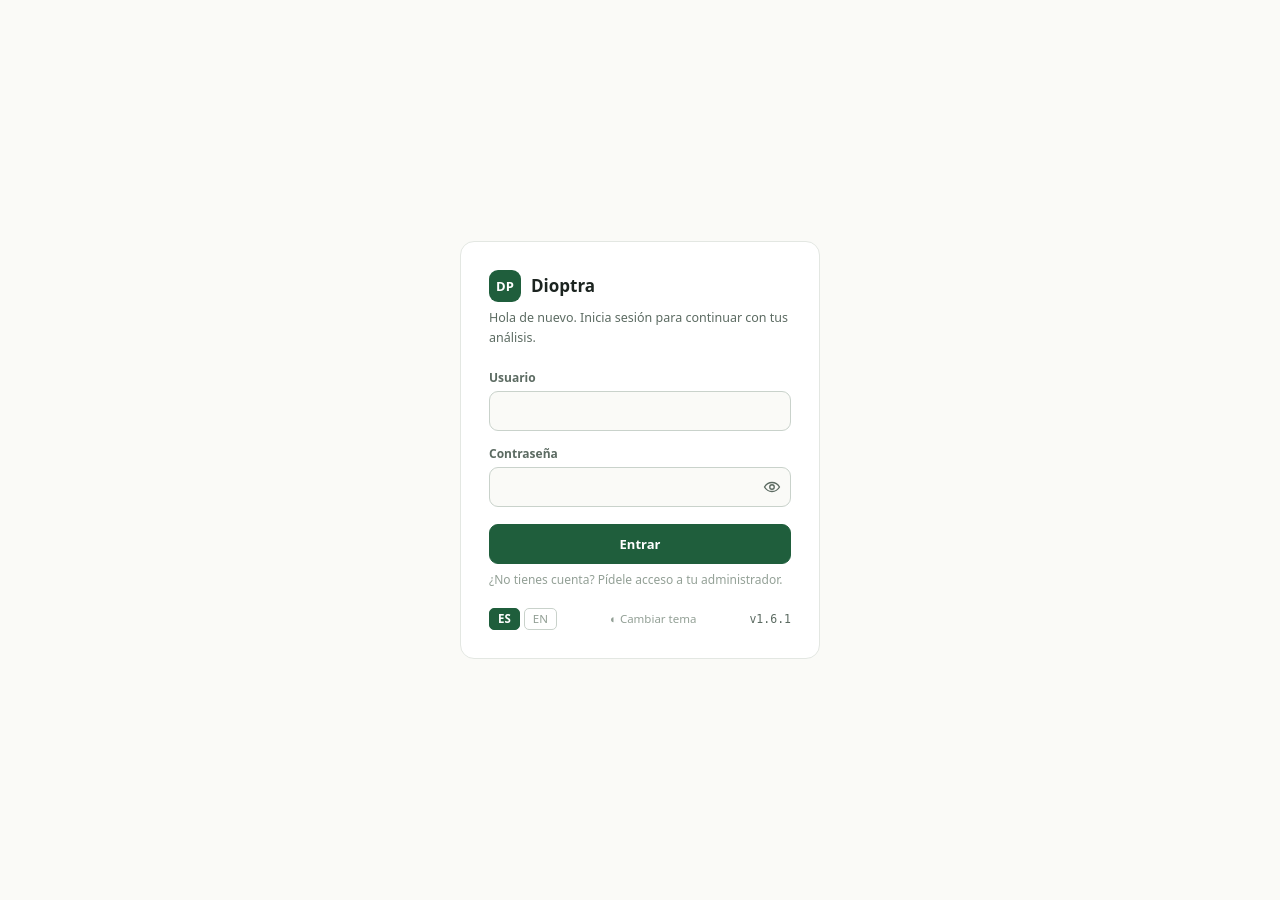
Test case: project screen › shows the stepper with stage names and the next-step banner
In the field labelled "Usuario": (640, 411) x1=489 y1=391 x2=791 y2=431, type "mmarin"
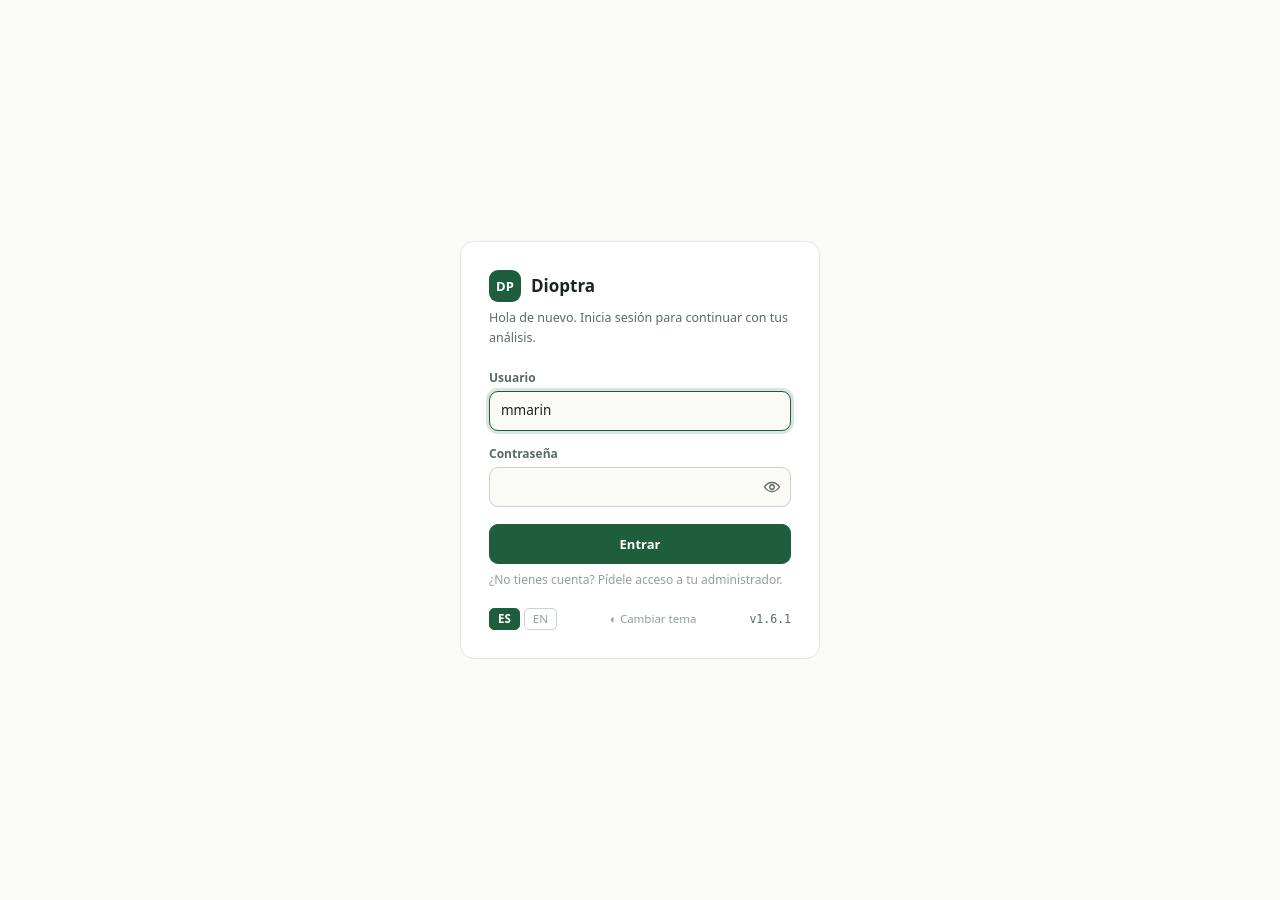
In the password field labelled "Contraseña": (640, 487) x1=489 y1=467 x2=791 y2=507, type "correct-horse-battery-staple"
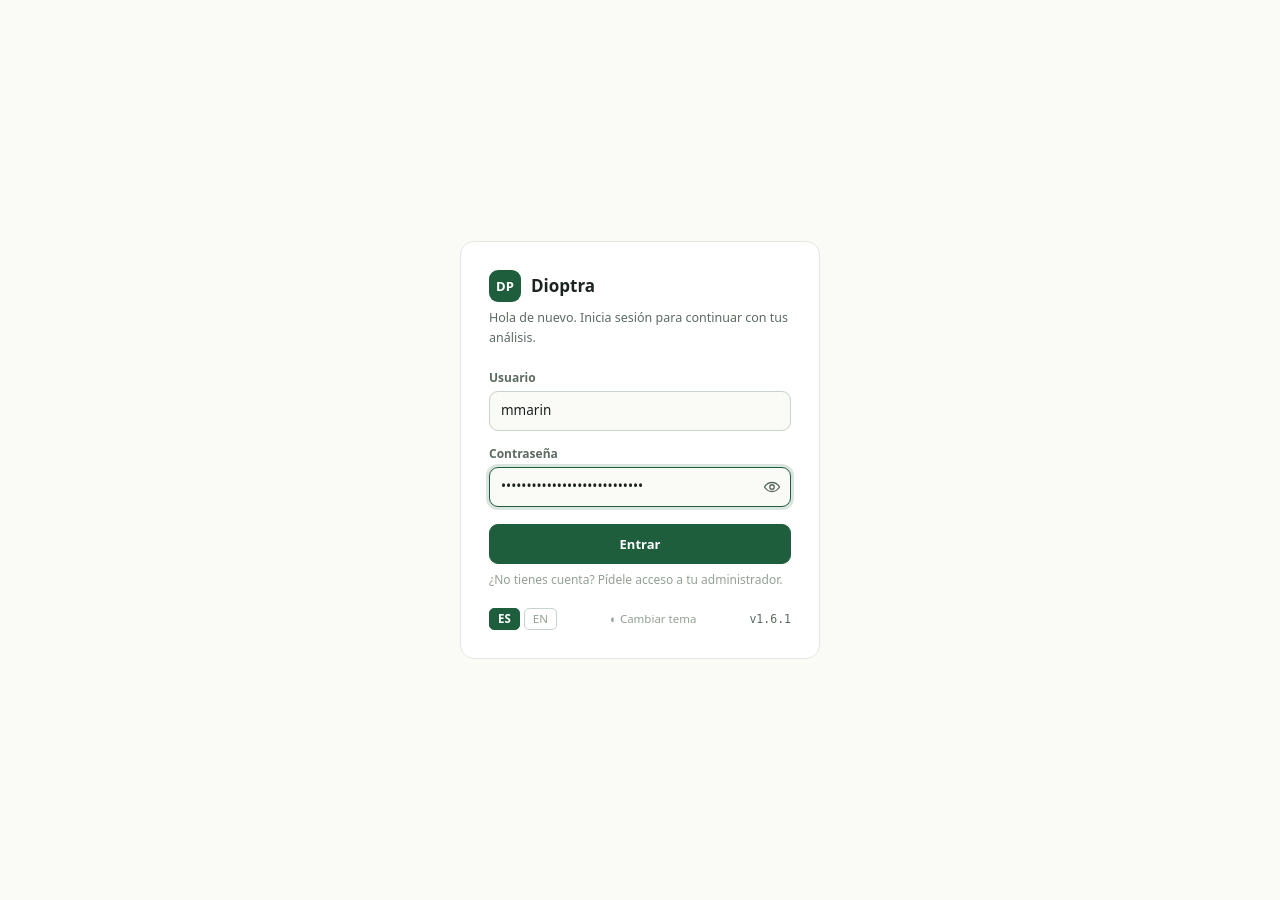
Click the button "Entrar": (640, 544) x1=489 y1=524 x2=791 y2=564
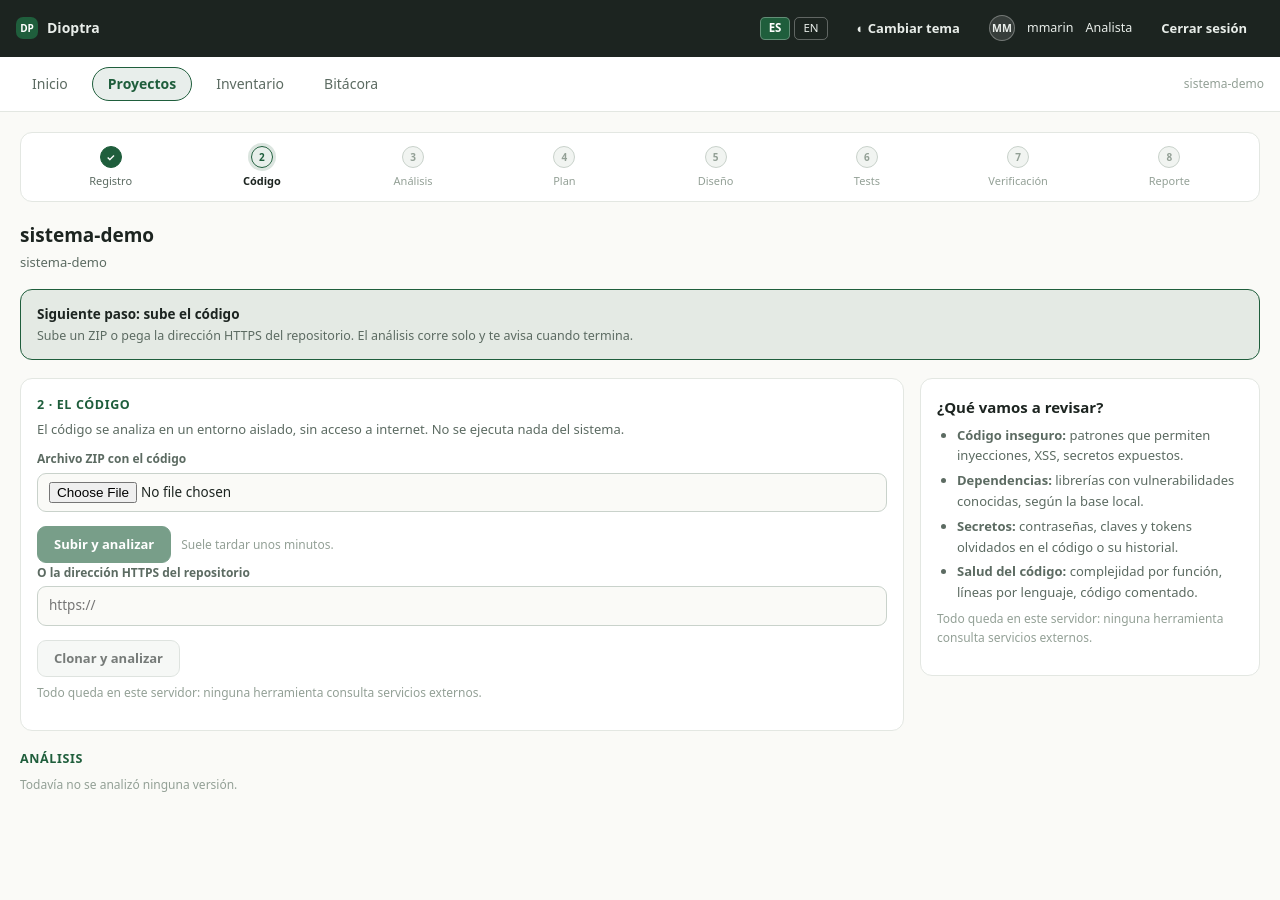
expect the text "Siguiente paso: sube el código" is shown: met, box x1=37 y1=305 x2=240 y2=323
expect the list item "Registro" is shown: met, box x1=89 y1=173 x2=132 y2=188
expect the list item "Verificación" is shown: met, box x1=988 y1=173 x2=1048 y2=188
